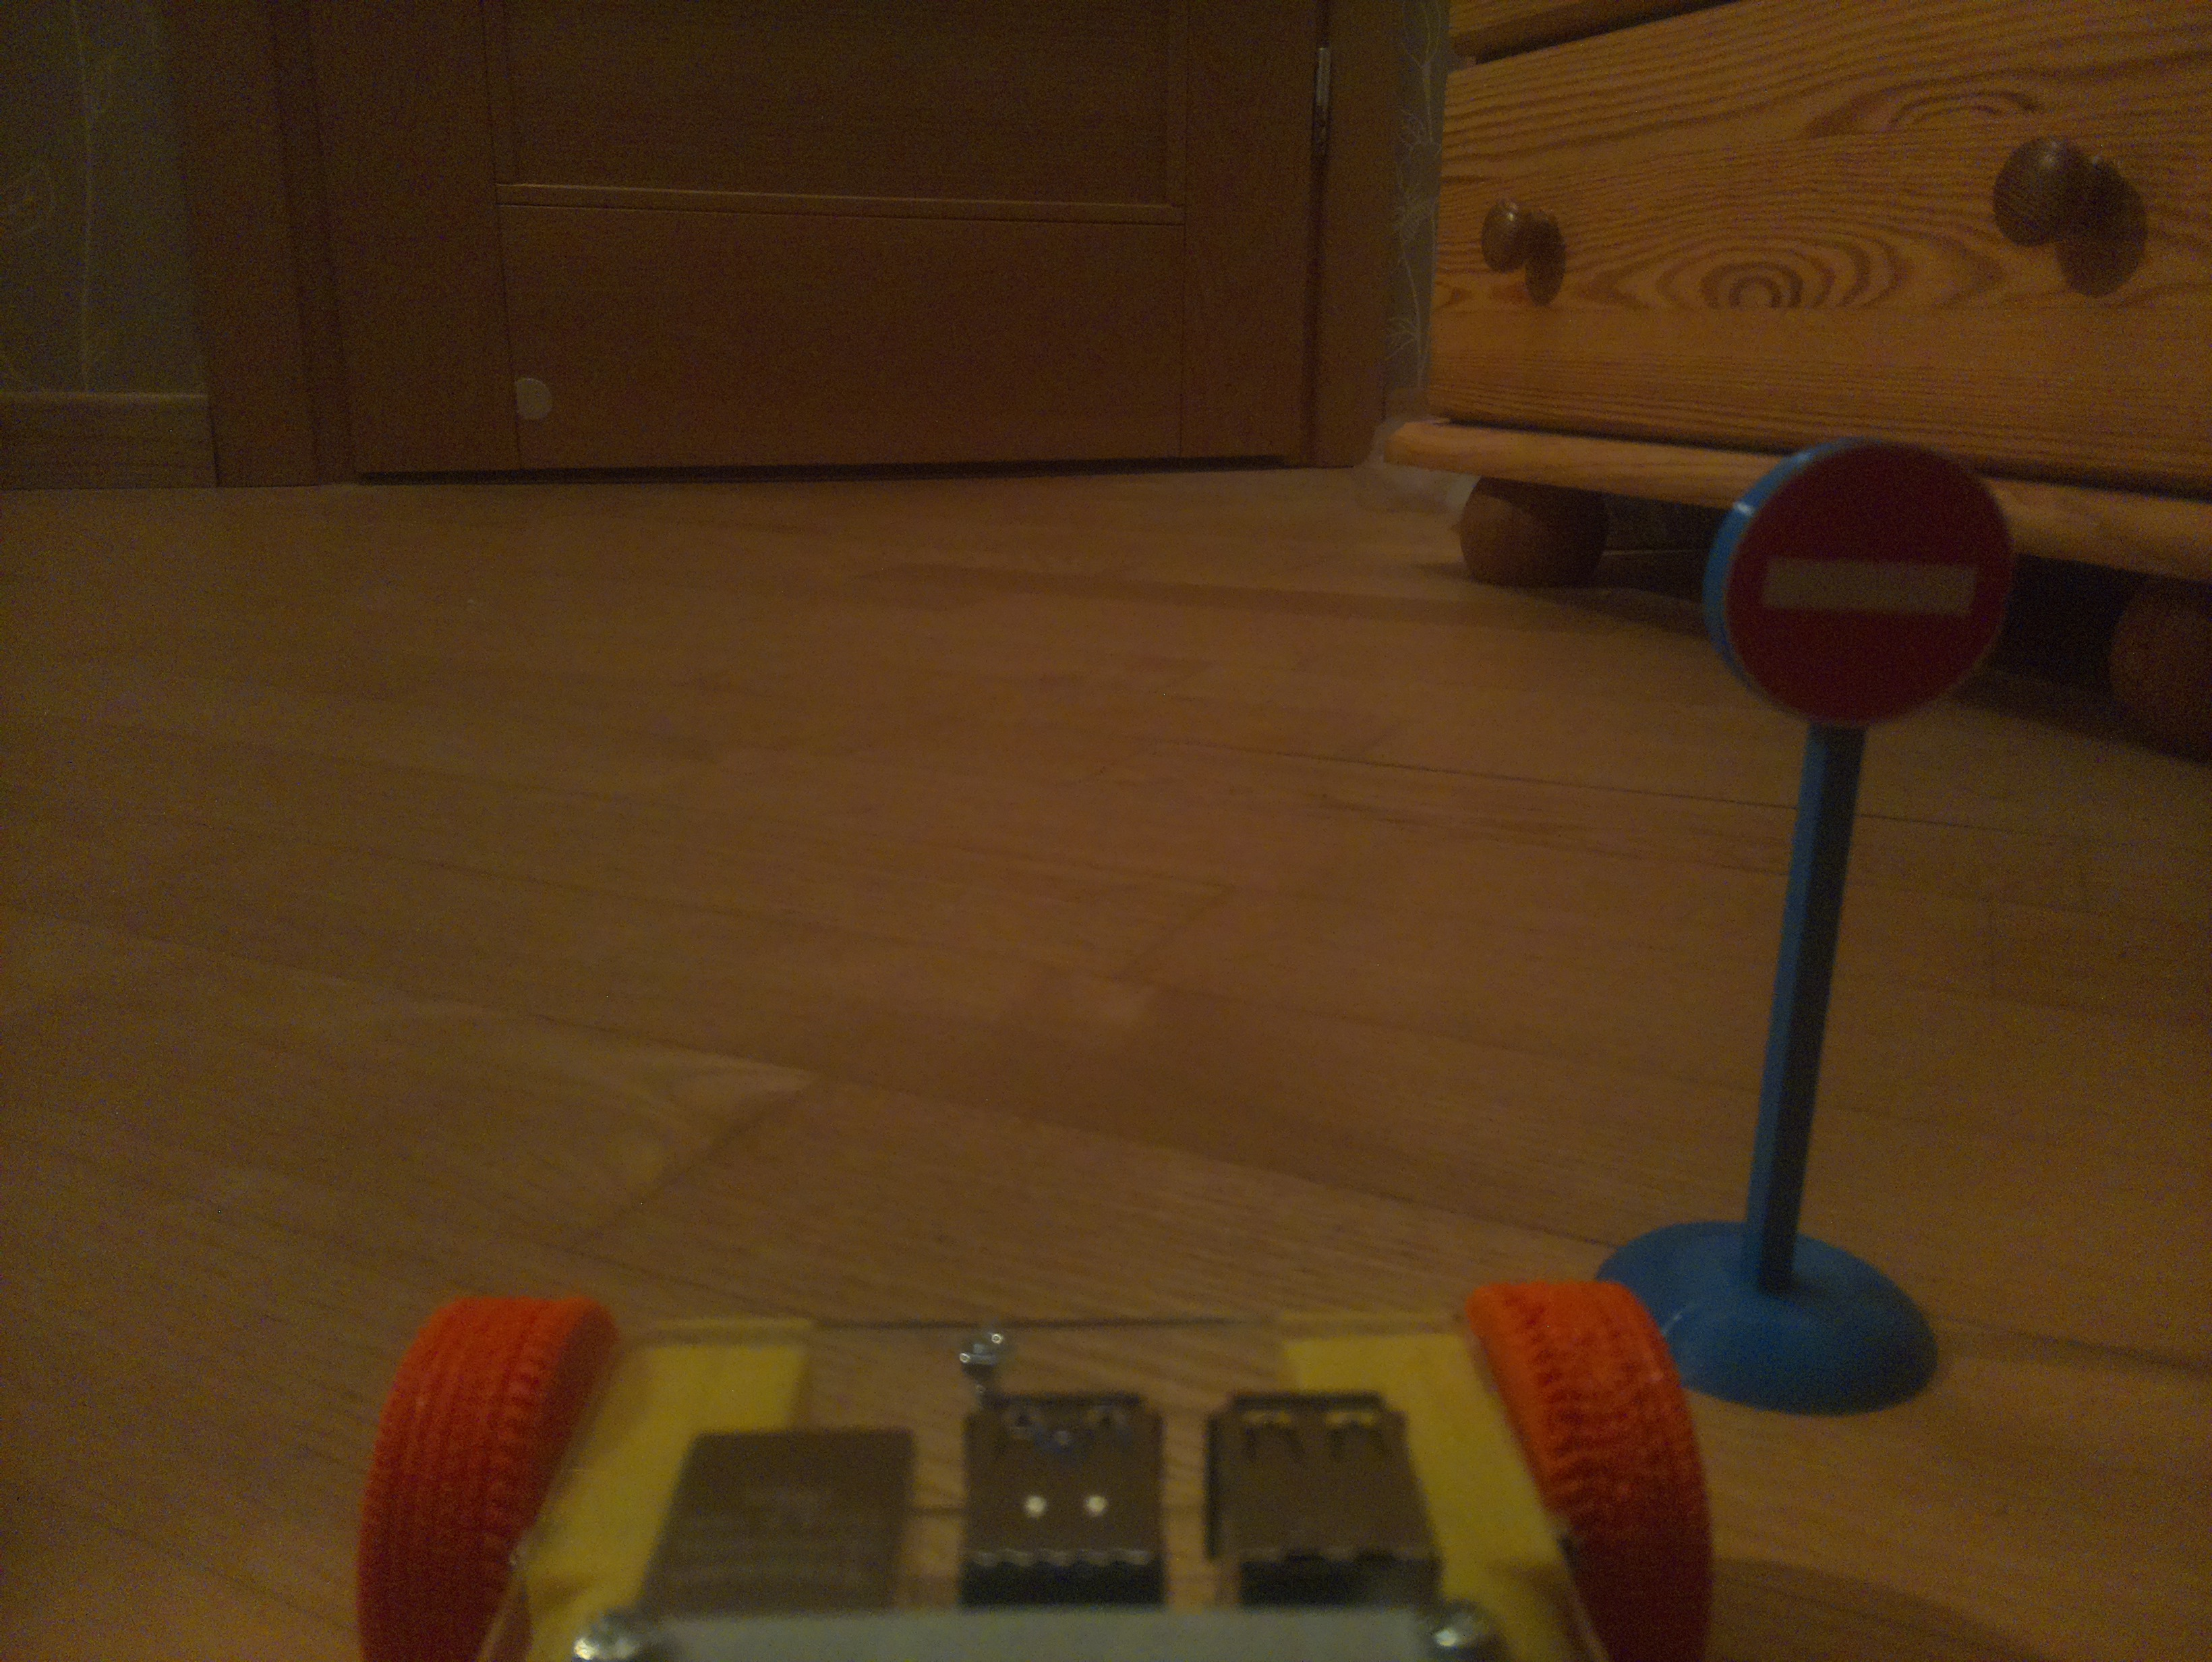brick: (1302, 436, 1583, 720)
